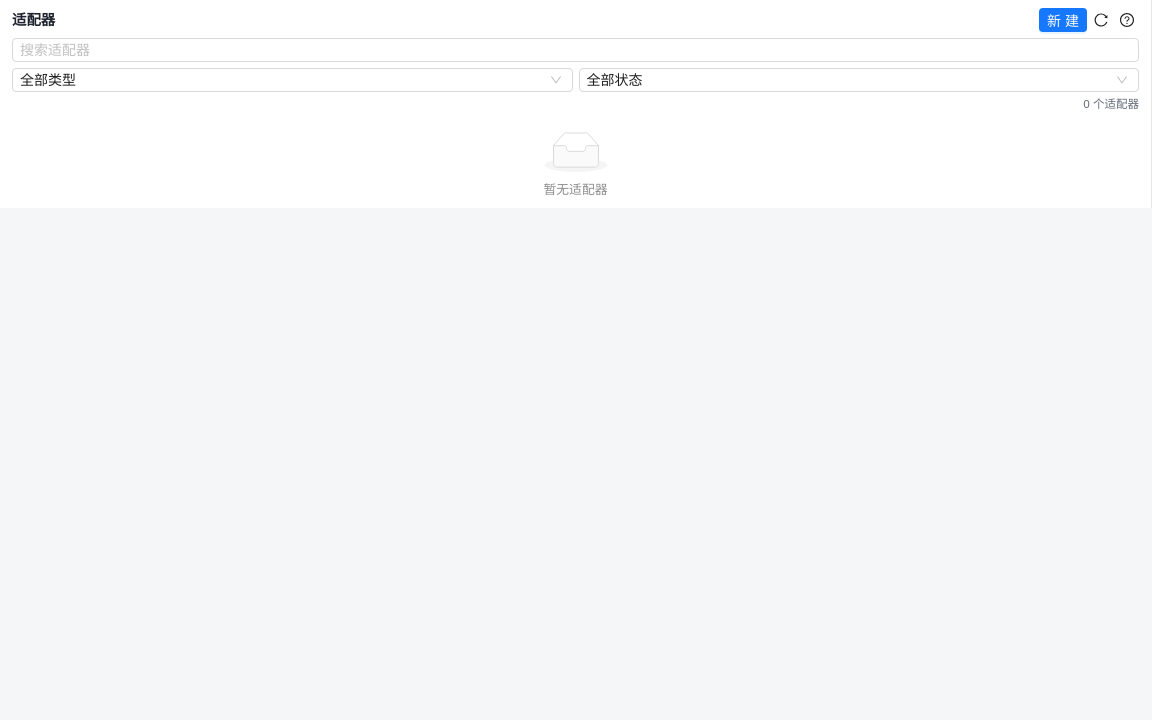
Test: focuses the visible name field when creating an Adapter
Step 1. Click the button with test id "show-create-form" → (1063, 20), box [1039, 8, 1087, 32]
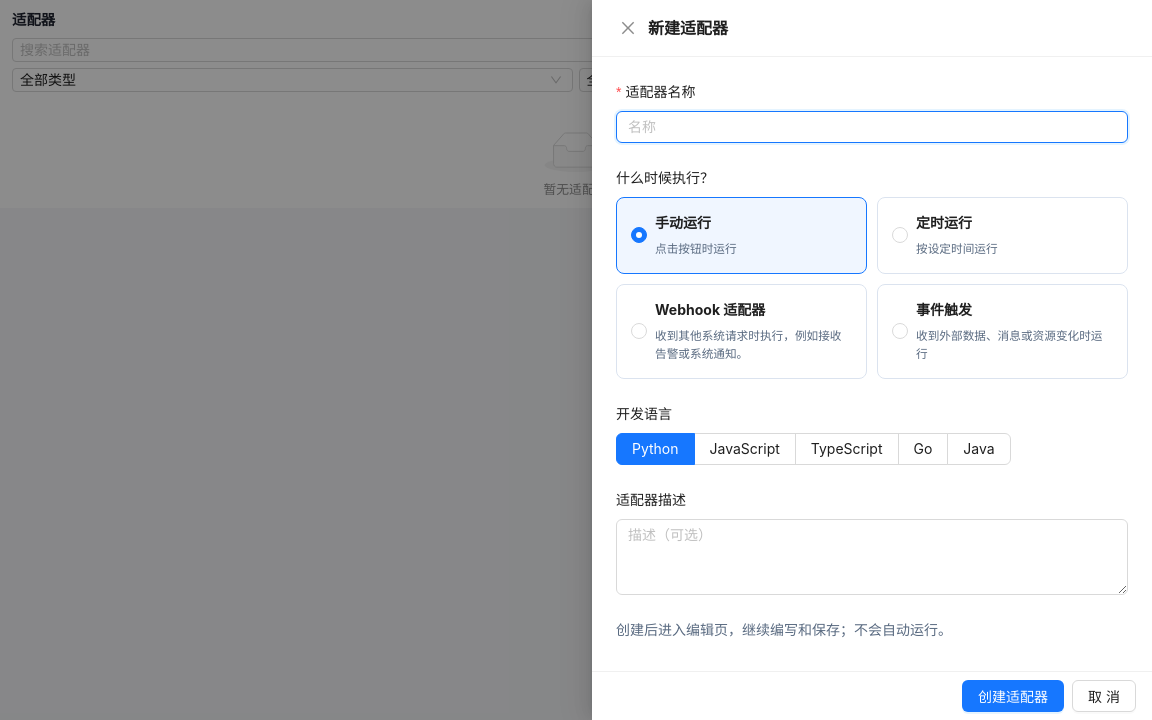
Step 2. Click the button "取 消" → (1104, 696), box [1072, 680, 1136, 712]
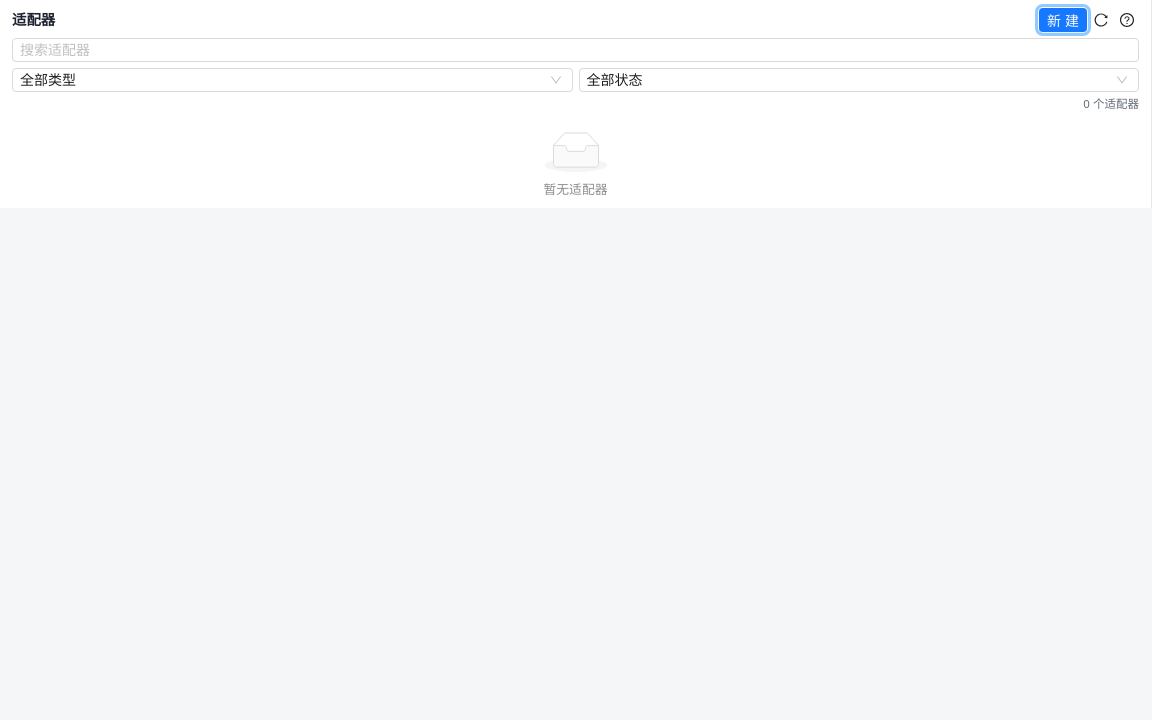
Check: the field with test id "new-adapter-name" is gone
